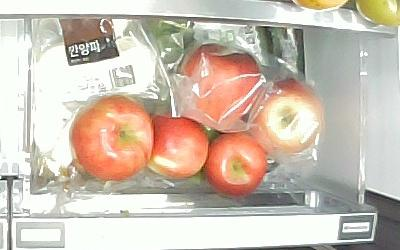apple: (70, 94, 154, 182), (206, 133, 268, 199), (150, 113, 209, 181)
apple_vinyl: (177, 44, 261, 131), (248, 80, 326, 159)
